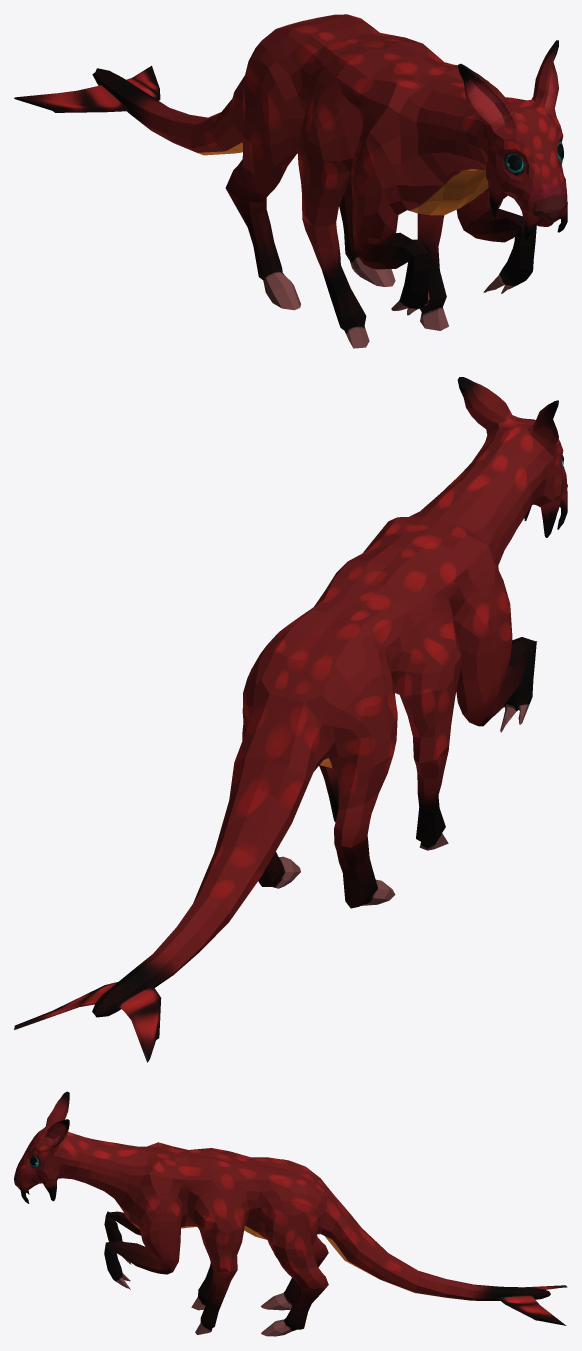
Rendered from PangolinBase.fbx.
The picture shows the model from 3 angles, top to bottom: view 1: azimuth 30°, elevation 25°; view 2: azimuth 150°, elevation 25°; view 3: azimuth 270°, elevation 25°; orthographic projection. The views are drawn at different scales.
Visible parts, largest first — view 1: Pangolin_ReferenceFile:Pangolin; view 2: Pangolin_ReferenceFile:Pangolin; view 3: Pangolin_ReferenceFile:Pangolin.
Part boxes in pixels (<box>): Pangolin_ReferenceFile:Pangolin: <box>14,14,567,348</box>; Pangolin_ReferenceFile:Pangolin: <box>14,377,567,1062</box>; Pangolin_ReferenceFile:Pangolin: <box>14,1091,567,1336</box>.
Bounding box in the file's own units: 2.12 × 5.01 × 11.69.
